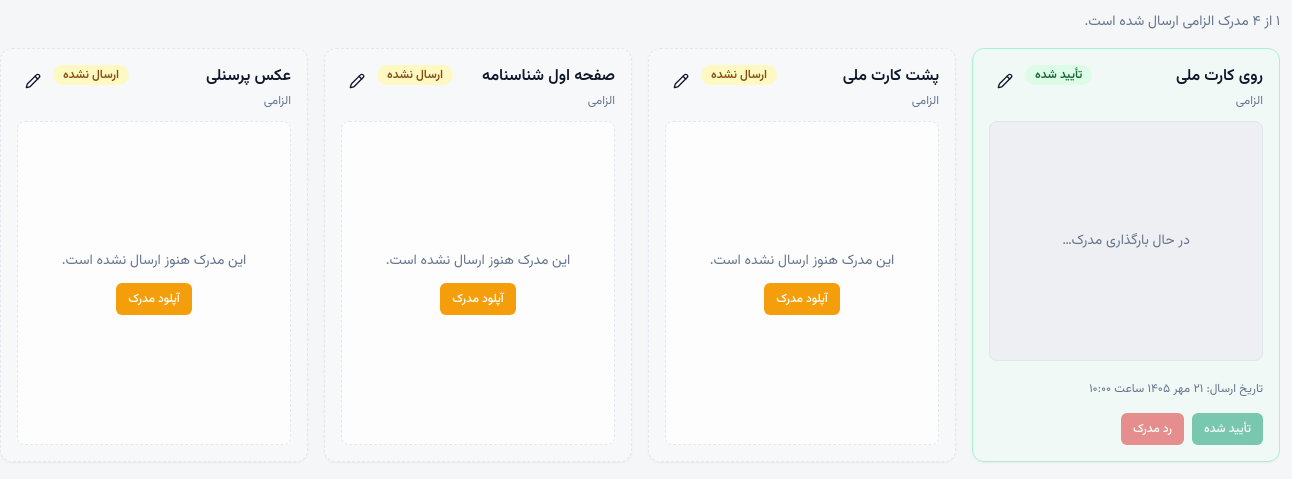
Test: KYC review › lets a reviewer edit or delete an approved document from the card menu
The image size is (1292, 479).
Click the button named "عملیات روی کارت ملی".
click(1005, 81)  # box [989, 65, 1021, 97]
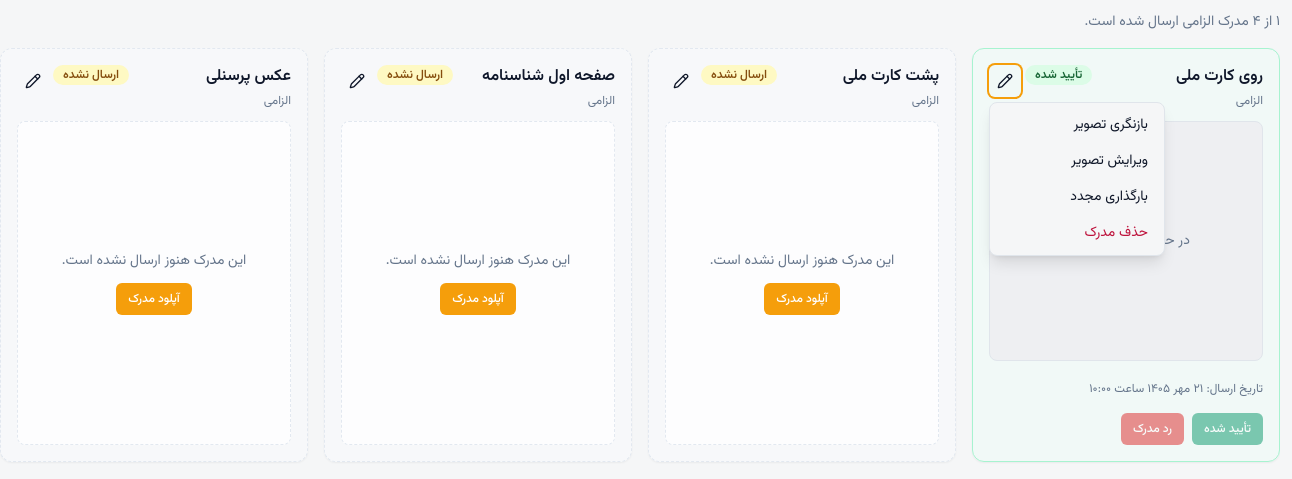
Result: the menu item "بازنگری تصویر" is shown at [994, 107, 1160, 143]
Result: the menu item "ویرایش تصویر" is shown at [994, 143, 1160, 179]
Result: the menu item "بارگذاری مجدد" is shown at [994, 179, 1160, 215]
